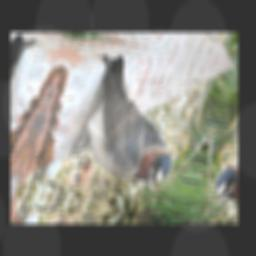Swallow: (53, 50, 213, 194)
